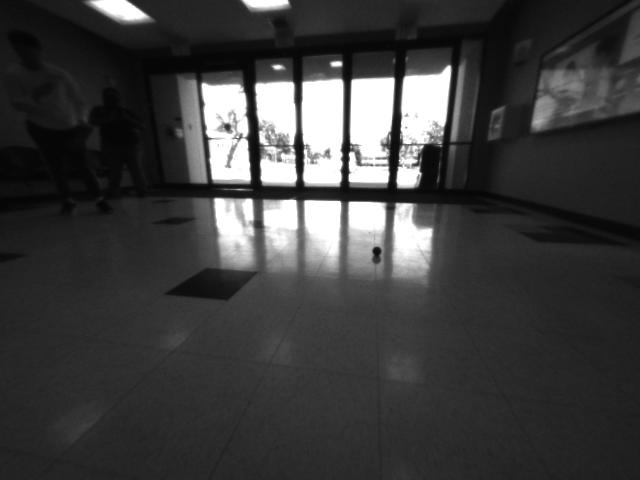dogtoy: (367, 241, 392, 263)
